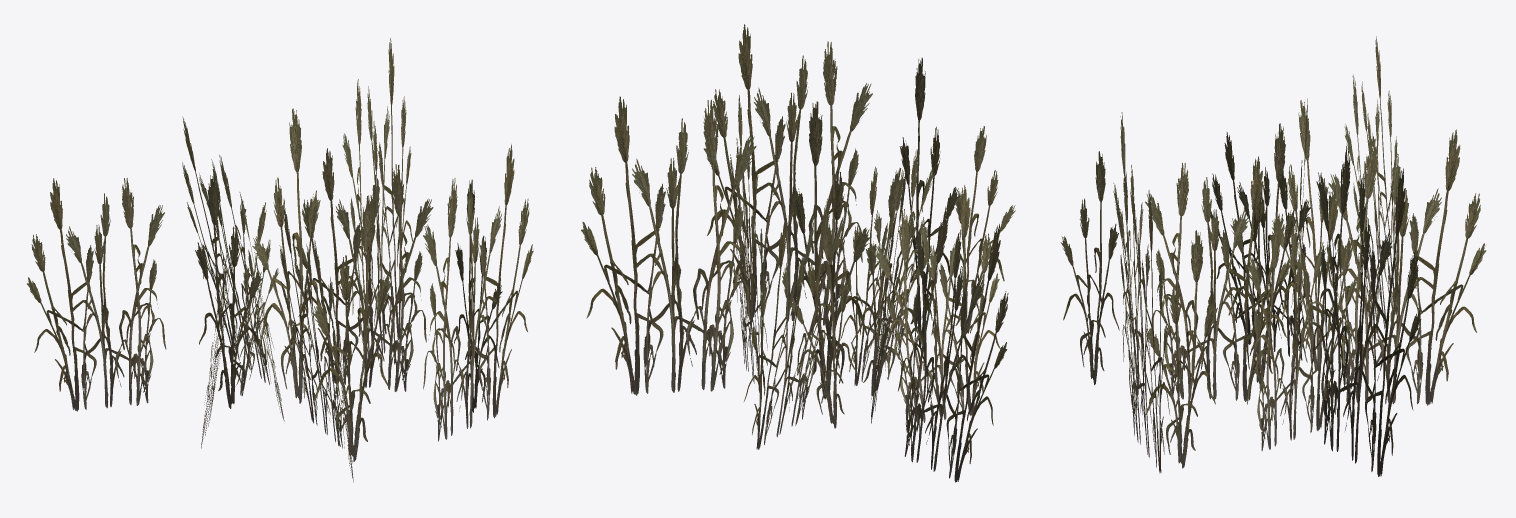
The model's file is bg_anh_foliage_crops20_sm_ksy.FBX.
3 renders of one model, left to right at view 1: azimuth 30°, elevation 25°; view 2: azimuth 150°, elevation 25°; view 3: azimuth 270°, elevation 25°, orthographic. The views are drawn at different scales.
Parts seen in each view (by area): view 1: bg_anh_foliage_crops20_sm_ksy; view 2: bg_anh_foliage_crops20_sm_ksy; view 3: bg_anh_foliage_crops20_sm_ksy.
Part boxes in pixels (bbox=[...]): bg_anh_foliage_crops20_sm_ksy: bbox=[27, 38, 533, 482]; bg_anh_foliage_crops20_sm_ksy: bbox=[581, 24, 1015, 482]; bg_anh_foliage_crops20_sm_ksy: bbox=[1060, 36, 1486, 476].
Bounding box in the file's own units: 221 × 154 × 189.
